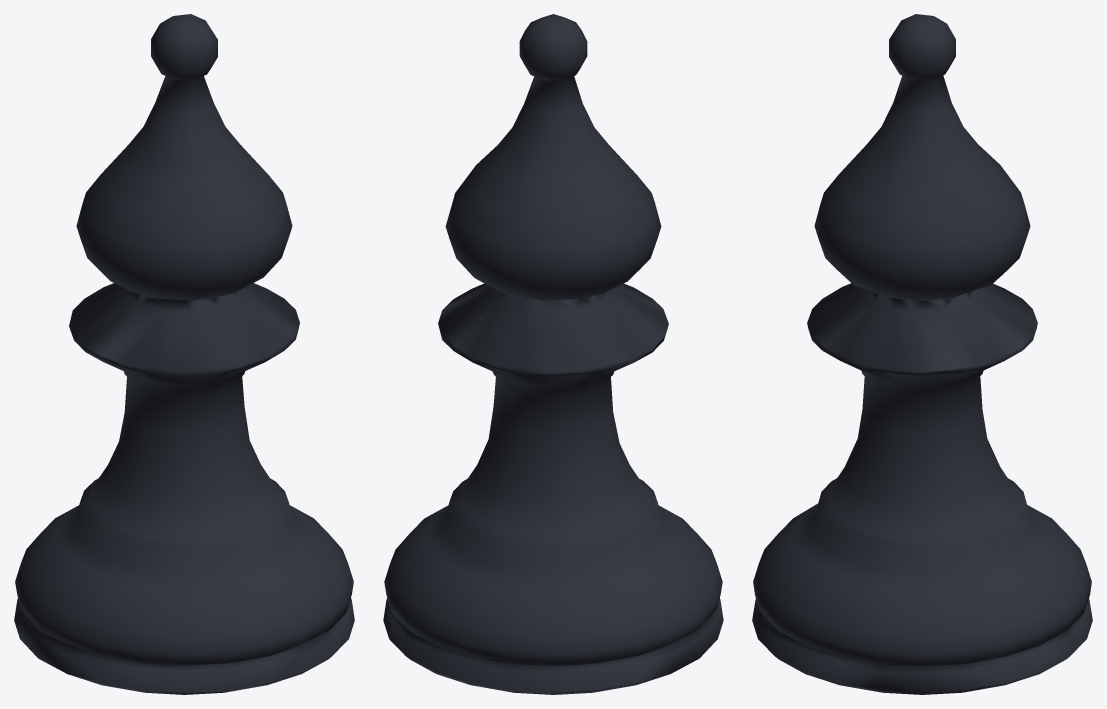
Rendered from xadrez_bispo_preto_pacote.glb.
3 renders of one model, left to right at view 1: azimuth 30°, elevation 25°; view 2: azimuth 150°, elevation 25°; view 3: azimuth 270°, elevation 25°, orthographic.
Parts seen in each view (by area): view 1: xadrez_bispo_preto_pacote; view 2: xadrez_bispo_preto_pacote; view 3: xadrez_bispo_preto_pacote.
Boxes of the visible parts, box(x1,y1,x2,y2) form: xadrez_bispo_preto_pacote: box(14, 14, 354, 694); xadrez_bispo_preto_pacote: box(383, 14, 723, 694); xadrez_bispo_preto_pacote: box(752, 14, 1092, 694).
Size of the model in its own units: 0.0362 by 0.0721 by 0.0364.
1 material, 1 textured.
